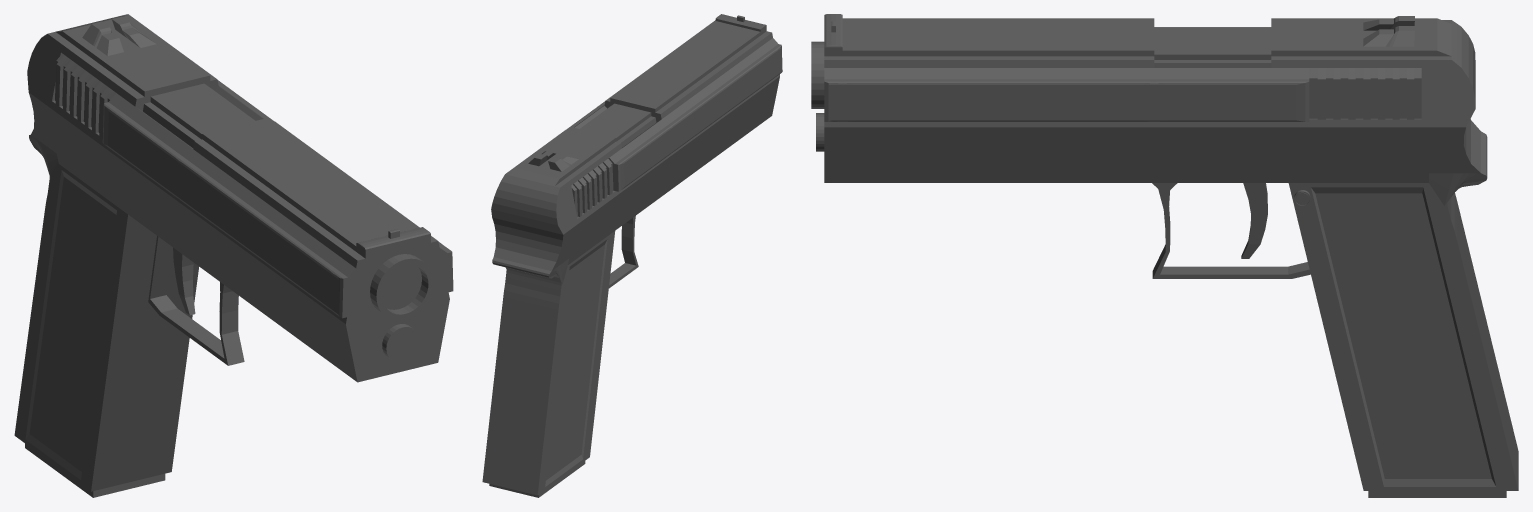
The model's file is gun.glb.
3 views of the same model, side by side, from view 1: azimuth 30°, elevation 25°; view 2: azimuth 150°, elevation 25°; view 3: azimuth 270°, elevation 25° (orthographic). The views are drawn at different scales.
Visible parts, largest first — view 1: Cube; view 2: Cube; view 3: Cube.
Boxes of the visible parts, left/top/right/bottom form: Cube: left=14, top=14, right=453, bottom=497; Cube: left=482, top=14, right=782, bottom=497; Cube: left=811, top=14, right=1518, bottom=497.
Bounding box in the file's own units: 0.8954 × 3.38 × 4.73.
1 material, 1 textured.
